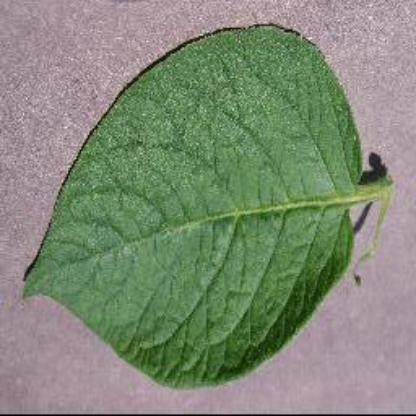Healthy-plant: (19, 15, 400, 395)
